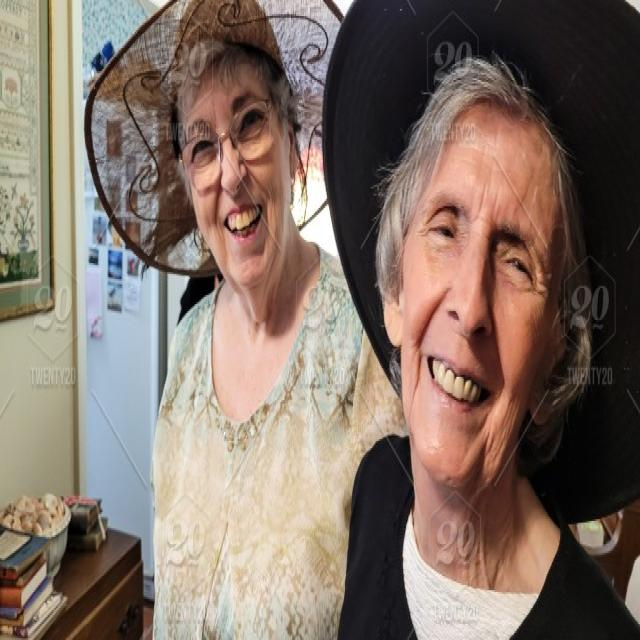hat: (323, 0, 640, 501), (84, 0, 354, 284)
